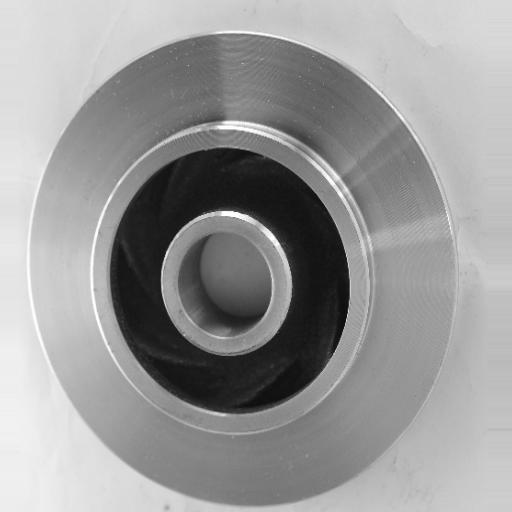polished_casting: (29, 30, 456, 512)
